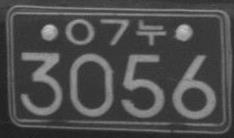0: (68, 51, 114, 118), (64, 18, 95, 45)
3: (20, 50, 63, 116)
5: (121, 52, 166, 119)
6: (171, 53, 217, 121)
7: (99, 17, 130, 46)
누: (135, 18, 167, 47)
